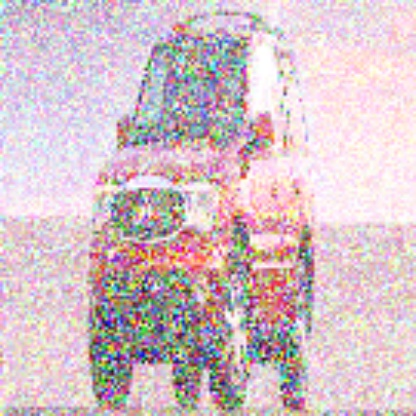Vehicle: (87, 8, 318, 414)
